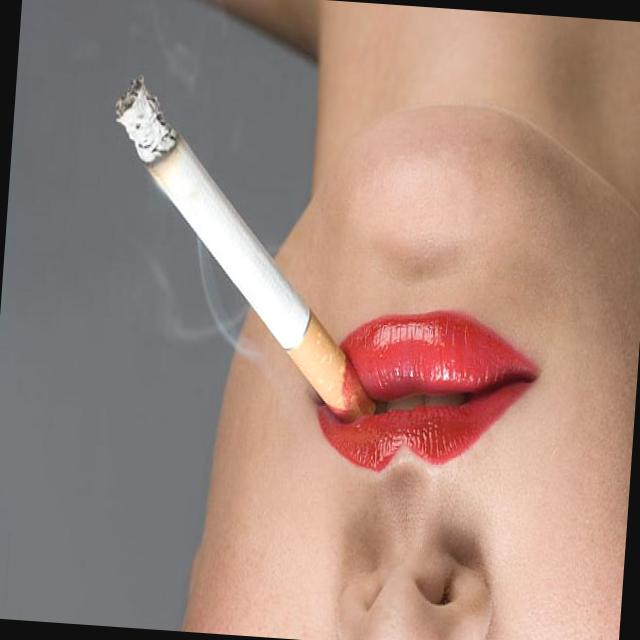cigarette: (70, 70, 407, 446)
